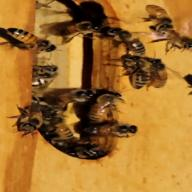Bee: (73, 24, 154, 53), (121, 54, 174, 92), (3, 24, 59, 54), (16, 104, 53, 140), (38, 113, 81, 142)
